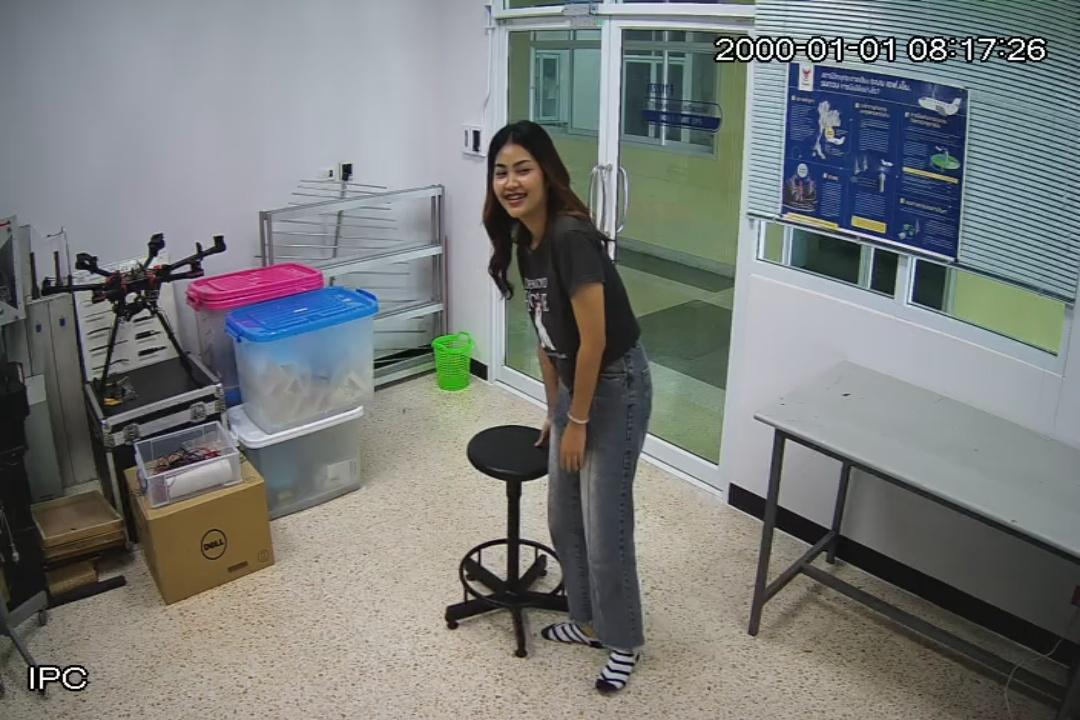normal: (483, 118, 658, 703)
